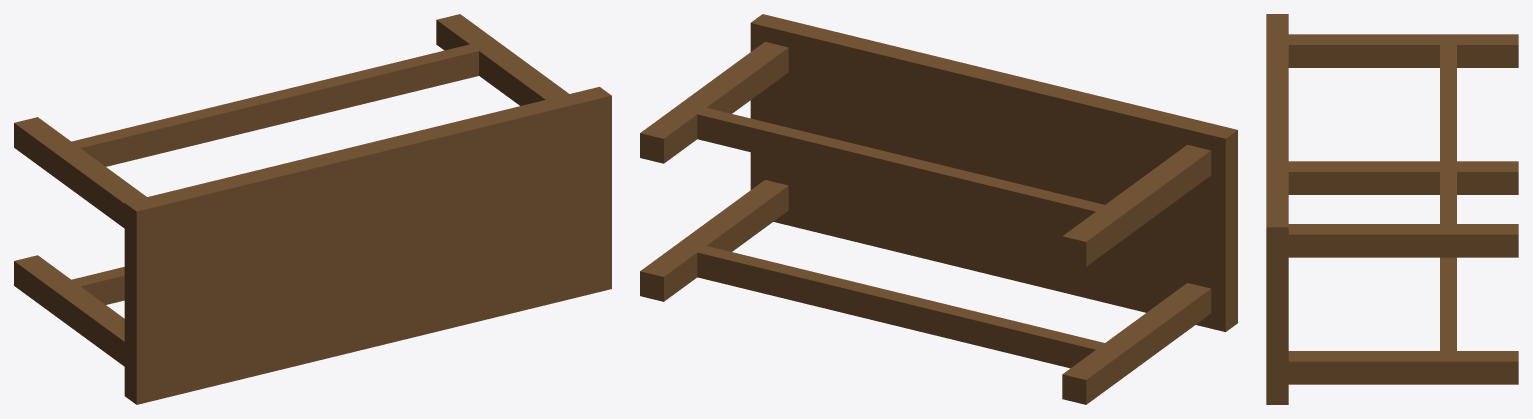
Rendered from prop.workbench.obj.
3 views of the same model, side by side, from view 1: azimuth 30°, elevation 25°; view 2: azimuth 150°, elevation 25°; view 3: azimuth 270°, elevation 25° (orthographic). The views are drawn at different scales.
Visible parts, largest first — view 1: prop.workbench; view 2: prop.workbench; view 3: prop.workbench.
Part boxes in pixels (x1,y1,x2,y2): prop.workbench: (14,14,611,404); prop.workbench: (640,14,1237,404); prop.workbench: (1266,14,1518,404).
Bounding box in the file's own units: 1.8 × 0.7 × 0.9.
